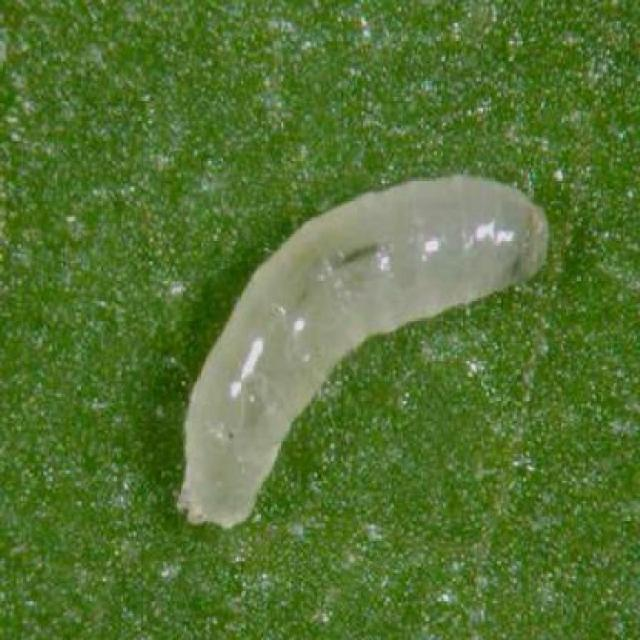whorl-maggot: (172, 163, 554, 537)
